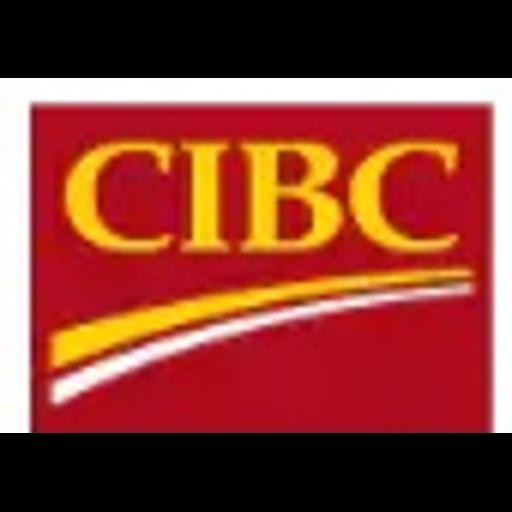Canadian Imperial Bank of Commerce: (0, 78, 512, 433)
